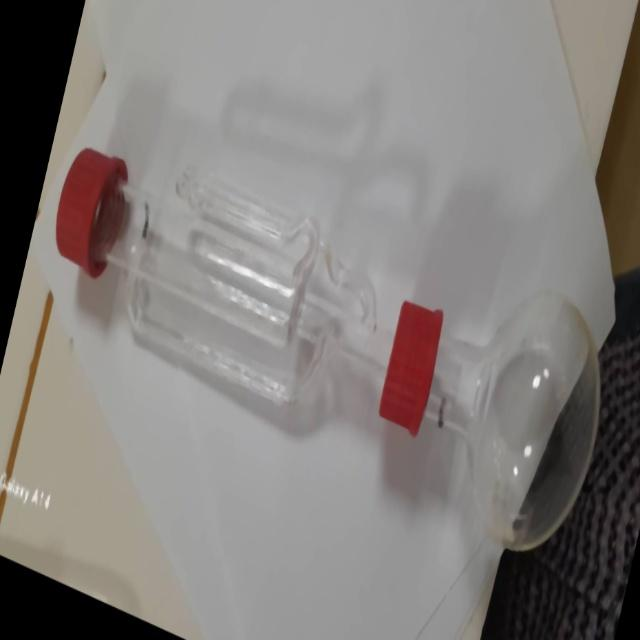Soxhlet: (21, 71, 624, 601)
